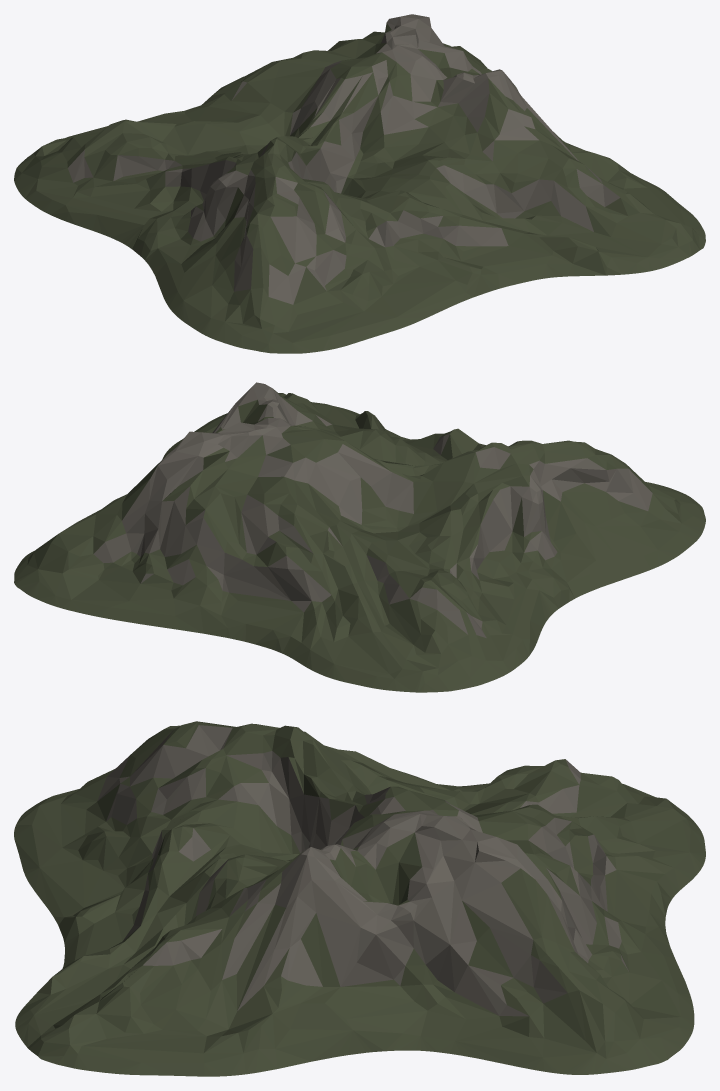
File: bg-hill-b.glb
3 views of the same model, one above another, from view 1: azimuth 30°, elevation 25°; view 2: azimuth 150°, elevation 25°; view 3: azimuth 270°, elevation 25° (orthographic). The views are drawn at different scales.
Parts seen in each view (by area): view 1: SM_Env_Mountains_Grass_02; view 2: SM_Env_Mountains_Grass_02; view 3: SM_Env_Mountains_Grass_02.
Boxes of the visible parts, <box> form: SM_Env_Mountains_Grass_02: <box>14,14,705,353</box>; SM_Env_Mountains_Grass_02: <box>14,382,705,692</box>; SM_Env_Mountains_Grass_02: <box>14,721,705,1076</box>.
Size of the model in its own units: 20.21 by 4.97 by 19.97.
1 material, 1 textured.
